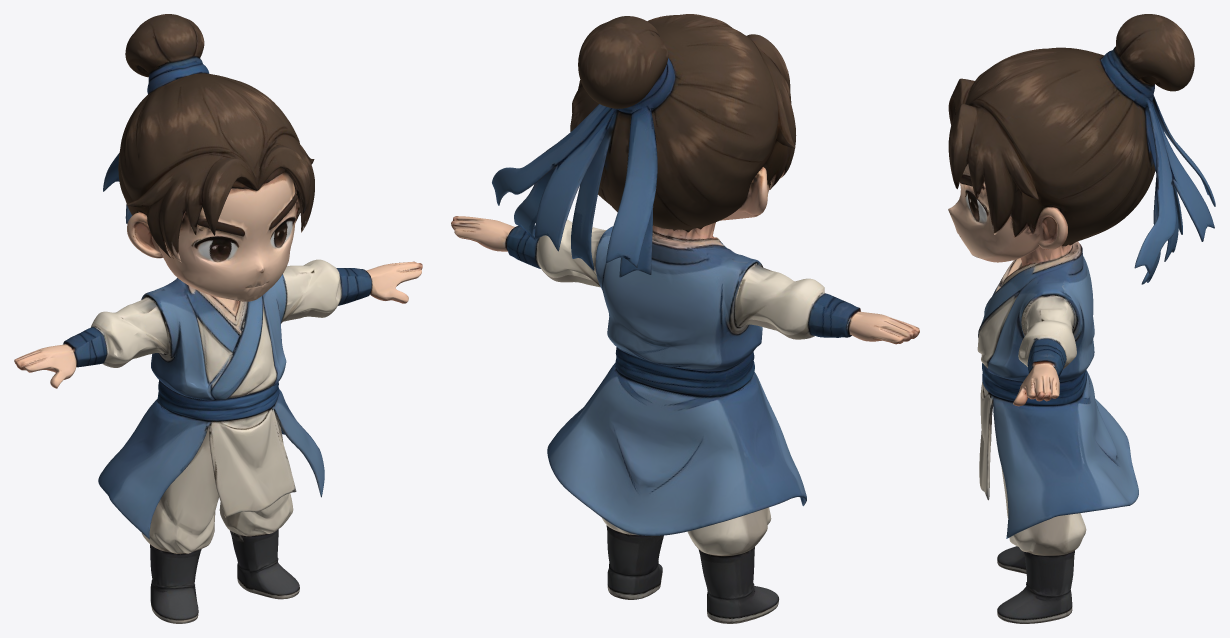
The model's file is tamphong.glb.
3 renders of one model, left to right at view 1: azimuth 30°, elevation 25°; view 2: azimuth 150°, elevation 25°; view 3: azimuth 270°, elevation 25°, orthographic. The views are drawn at different scales.
Parts seen in each view (by area): view 1: tripo_node_66d7d8b7-7ef2-4d12-9e58-e3cc62f562f2; view 2: tripo_node_66d7d8b7-7ef2-4d12-9e58-e3cc62f562f2; view 3: tripo_node_66d7d8b7-7ef2-4d12-9e58-e3cc62f562f2.
Boxes of the visible parts, <box> form: tripo_node_66d7d8b7-7ef2-4d12-9e58-e3cc62f562f2: <box>14,14,422,623</box>; tripo_node_66d7d8b7-7ef2-4d12-9e58-e3cc62f562f2: <box>451,14,919,623</box>; tripo_node_66d7d8b7-7ef2-4d12-9e58-e3cc62f562f2: <box>948,14,1215,623</box>.
Size of the model in its own units: 0.7837 by 1 by 0.424.
1 material, 1 textured.
